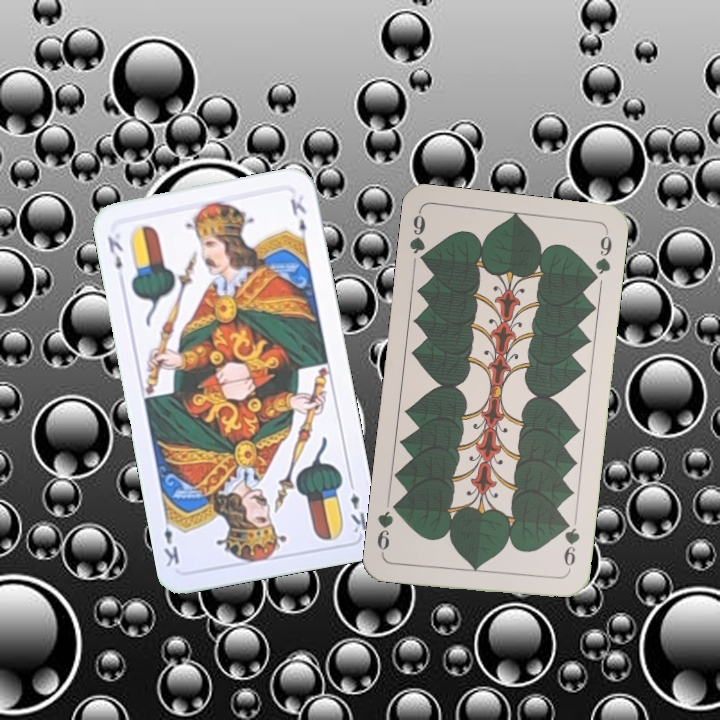EK: (345, 476, 370, 536), (103, 232, 126, 273)
G9: (405, 208, 431, 268), (560, 516, 582, 576)
